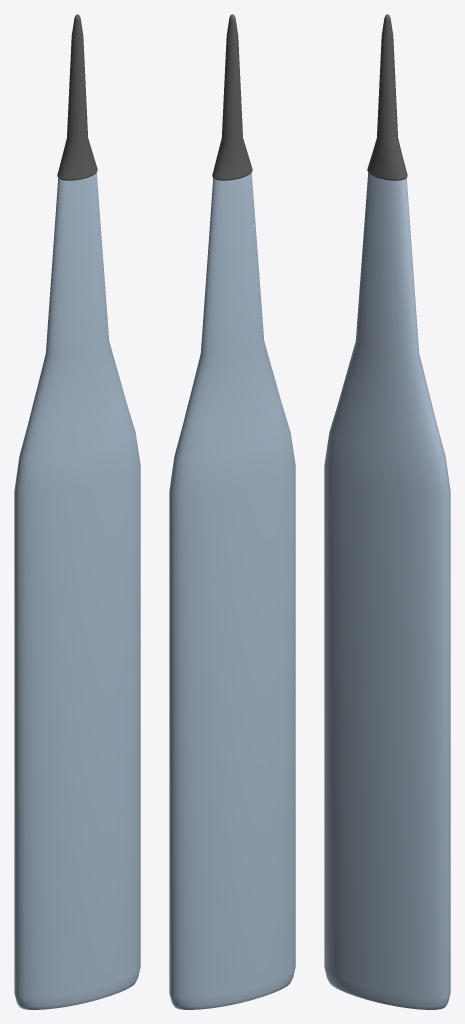
Rendered from tHERMOMETER.fbx.
3 views of the same model, side by side, from view 1: azimuth 30°, elevation 25°; view 2: azimuth 210°, elevation 25°; view 3: azimuth 330°, elevation 25° (orthographic).
Parts seen in each view (by area): view 1: Cylinder, Sphere.001; view 2: Cylinder, Sphere.001; view 3: Cylinder, Sphere.001.
Boxes of the visible parts, x1=… form: Cylinder: x1=14, y1=172, x2=140, y2=1009; Sphere.001: x1=57, y1=14, x2=97, y2=180; Cylinder: x1=169, y1=172, x2=295, y2=1009; Sphere.001: x1=212, y1=14, x2=252, y2=180; Cylinder: x1=324, y1=172, x2=450, y2=1009; Sphere.001: x1=367, y1=14, x2=407, y2=180.
Bounding box in the file's own units: 306 × 2313 × 105.
